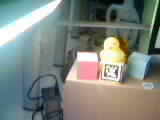duck: (89, 34, 128, 65)
